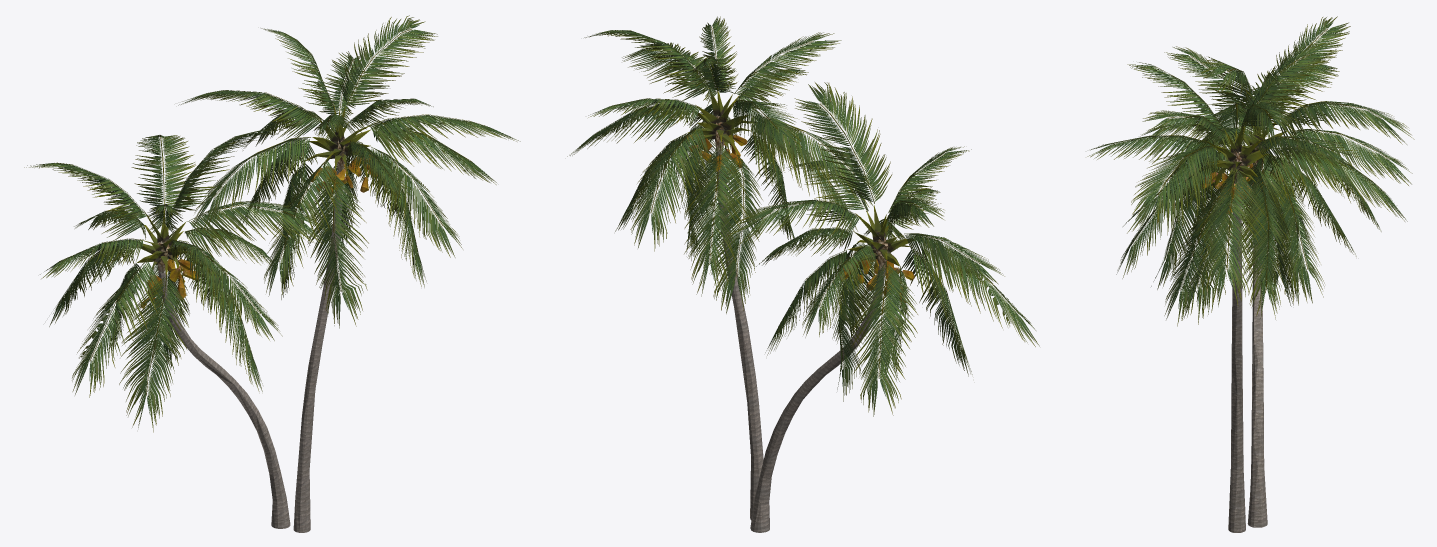
Rendered from palm.glb.
The picture shows the model from 3 angles, left to right: view 1: azimuth 30°, elevation 25°; view 2: azimuth 150°, elevation 25°; view 3: azimuth 270°, elevation 25°; orthographic projection. The views are drawn at different scales.
Parts seen in each view (by area): view 1: Tree_2_Tree_2Mat_0, Tree_0_Tree_0Mat_0, Tree_3_Tree_3Mat_0, Tree_4_Tree_4Mat_0; view 2: Tree_2_Tree_2Mat_0, Tree_0_Tree_0Mat_0, Tree_3_Tree_3Mat_0, Tree_4_Tree_4Mat_0; view 3: Tree_2_Tree_2Mat_0, Tree_0_Tree_0Mat_0, Tree_3_Tree_3Mat_0, Tree_4_Tree_4Mat_0.
Boxes of the visible parts, box(x1,y1,x2,y2) form: Tree_2_Tree_2Mat_0: box(24, 15, 520, 432); Tree_0_Tree_0Mat_0: box(158, 170, 343, 532); Tree_3_Tree_3Mat_0: box(137, 102, 375, 283); Tree_4_Tree_4Mat_0: box(140, 155, 377, 308); Tree_2_Tree_2Mat_0: box(567, 16, 1039, 416); Tree_0_Tree_0Mat_0: box(716, 151, 885, 532); Tree_3_Tree_3Mat_0: box(687, 87, 913, 283); Tree_4_Tree_4Mat_0: box(686, 134, 914, 304); Tree_2_Tree_2Mat_0: box(1087, 16, 1414, 326); Tree_0_Tree_0Mat_0: box(1228, 187, 1267, 532); Tree_3_Tree_3Mat_0: box(1205, 122, 1286, 202); Tree_4_Tree_4Mat_0: box(1202, 163, 1283, 214).
Size of the model in its own units: 6.3 by 6.28 by 4.02.
Materials: 5 (5 with a texture image).
